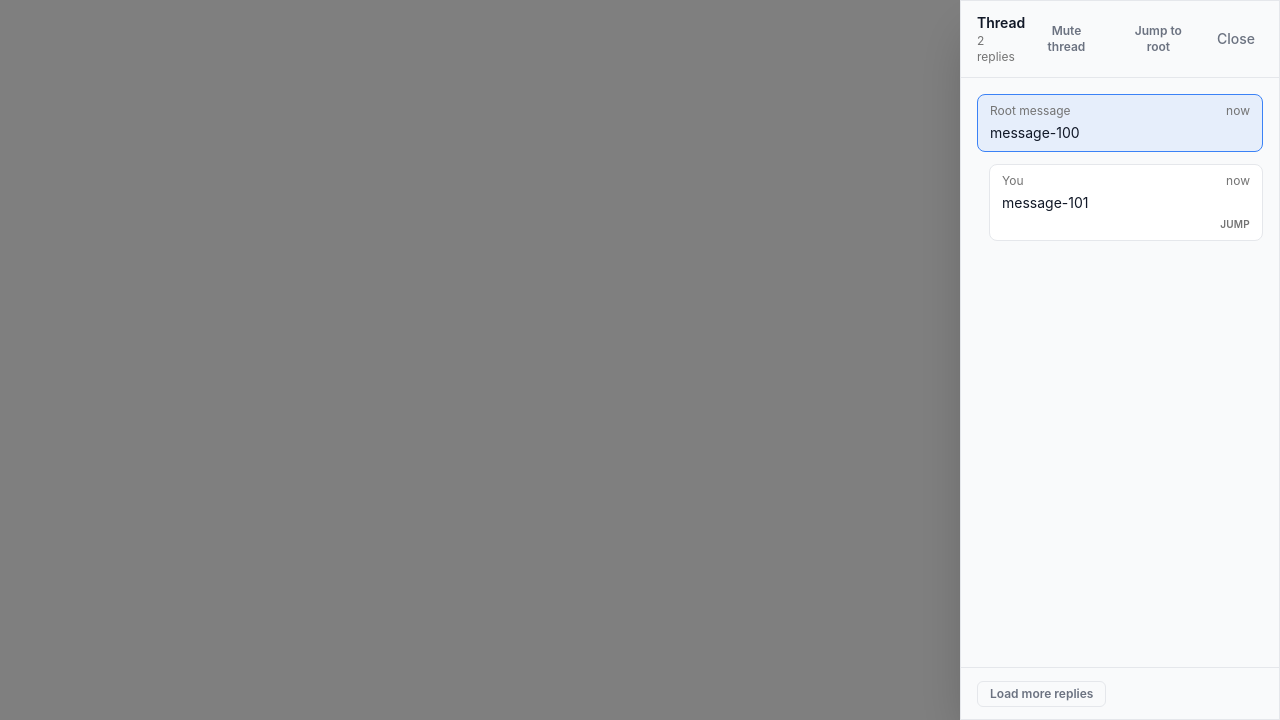
ThreadView › loads more replies using offset pagination
The image size is (1280, 720).
Check: the text "message-101" is shown, box [1002,194,1088,211]
Step 1. Click the button "Load more replies" → coordinates (1042, 694), box [977,681,1106,707]
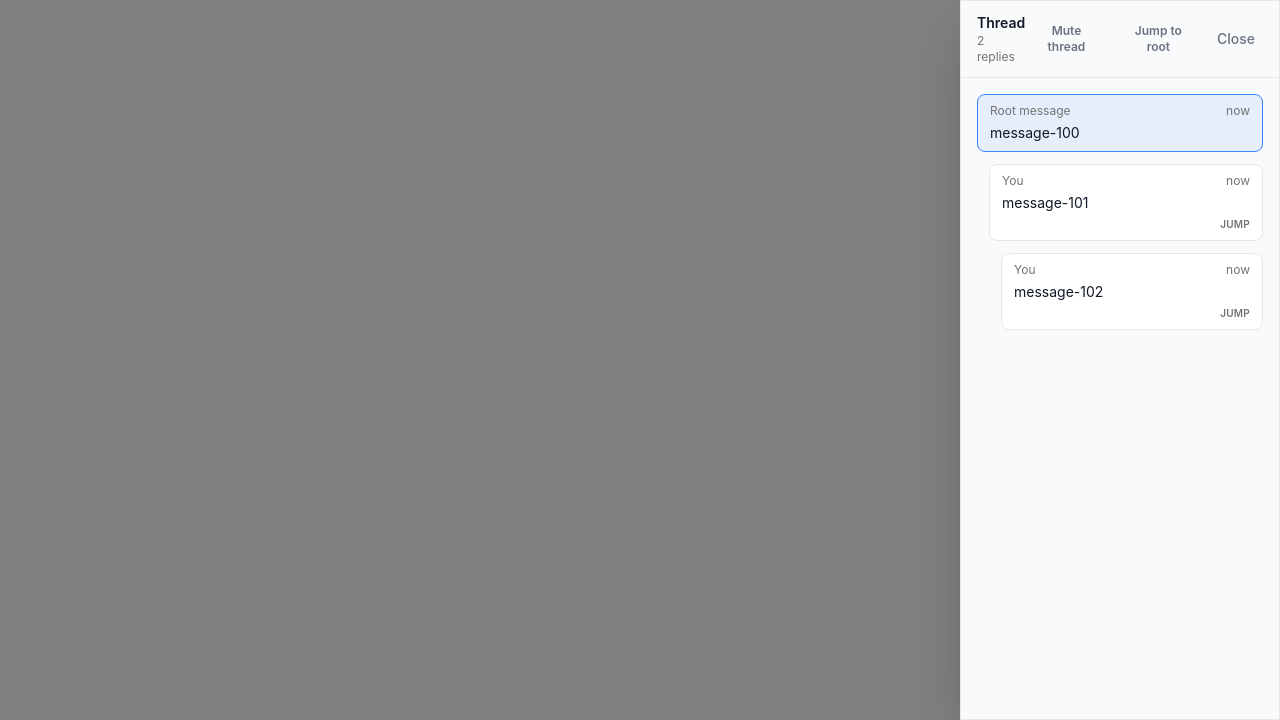
Check: the text "message-102" is shown, box [1014,283,1103,300]
